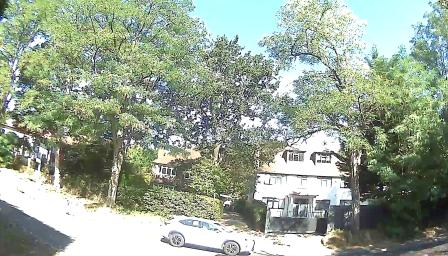Cars: (145, 206, 265, 250)
